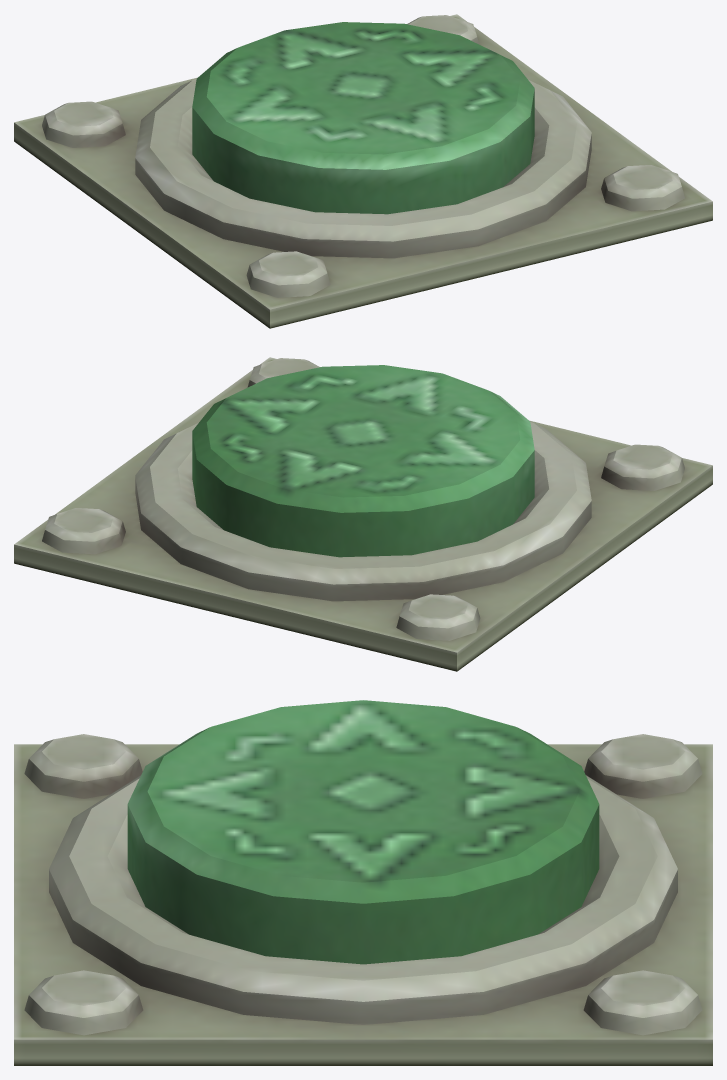
Rendered from Floor Sswitch Green.fbx.
3 renders of one model, top to bottom at view 1: azimuth 30°, elevation 25°; view 2: azimuth 150°, elevation 25°; view 3: azimuth 270°, elevation 25°, orthographic. The views are drawn at different scales.
Parts seen in each view (by area): view 1: box, switch1; view 2: box, switch1; view 3: box, switch1.
Boxes of the visible parts, x1=… form: box: x1=14, y1=14, x2=712, y2=328; switch1: x1=192, y1=22, x2=534, y2=214; box: x1=14, y1=357, x2=712, y2=671; switch1: x1=192, y1=365, x2=534, y2=557; box: x1=14, y1=734, x2=712, y2=1065; switch1: x1=127, y1=700, x2=599, y2=964.
Bounding box in the file's own units: 1 × 0.2 × 1.
